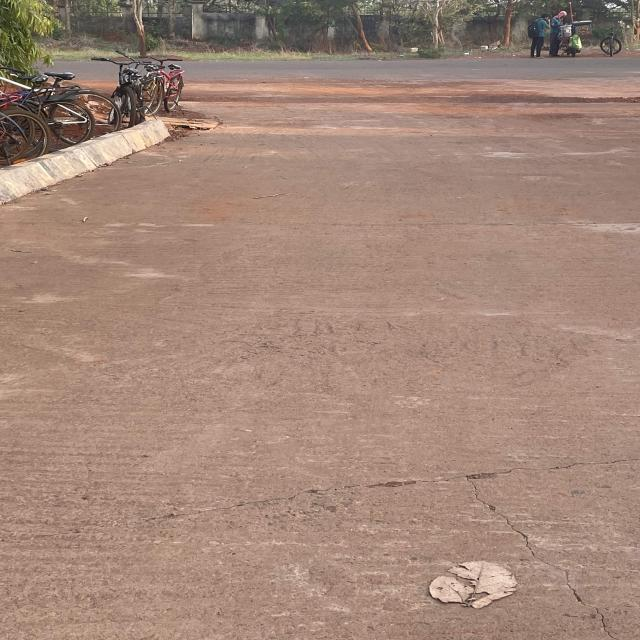D11: (198, 455, 627, 517), (178, 206, 617, 252)
